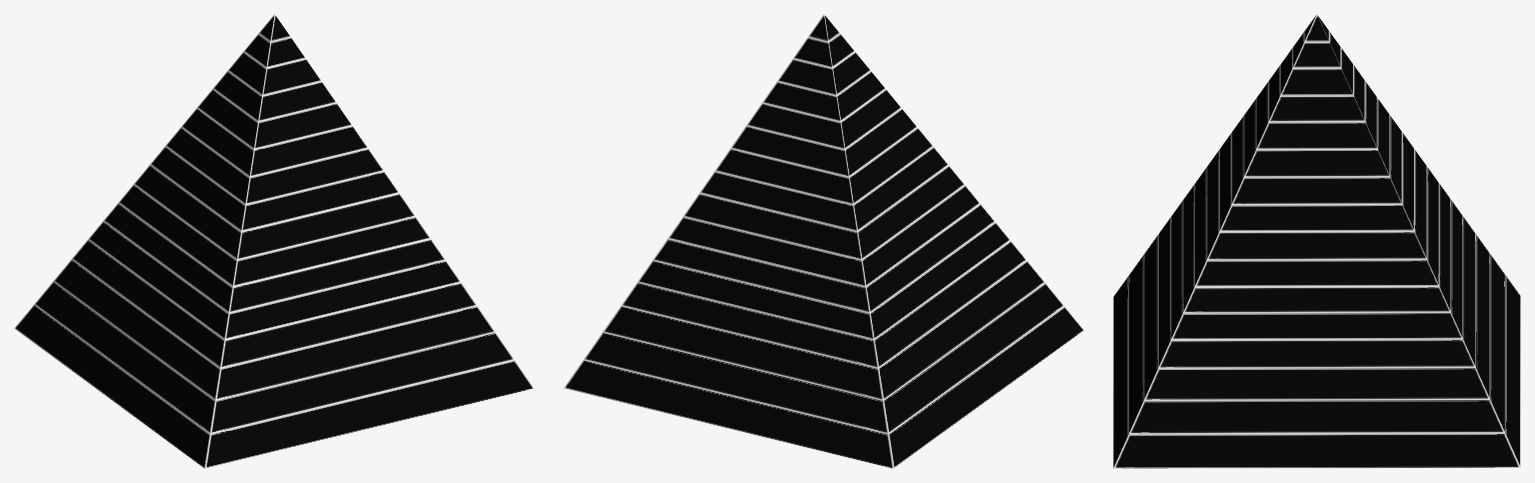
The picture shows the model from 3 angles, left to right: view 1: azimuth 30°, elevation 25°; view 2: azimuth 150°, elevation 25°; view 3: azimuth 270°, elevation 25°; orthographic projection. The views are drawn at different scales.
Parts seen in each view (by area): view 1: PyramidOfPower3D_0.001, PyramidOfPower3D_0.002, PyramidOfPower3D_0.003, PyramidOfPower3D_0.004, PyramidOfPower3D_0.005, PyramidOfPower3D_0.006, PyramidOfPower3D_0.007, PyramidOfPower3D_0.008, PyramidOfPower3D_0.009, PyramidOfPower3D_0.010, PyramidOfPower3D_0.011, PyramidOfPower3D_0.012 (+3 smaller); view 2: PyramidOfPower3D_0.001, PyramidOfPower3D_0.002, PyramidOfPower3D_0.003, PyramidOfPower3D_0.004, PyramidOfPower3D_0.005, PyramidOfPower3D_0.006, PyramidOfPower3D_0.007, PyramidOfPower3D_0.008, PyramidOfPower3D_0.009, PyramidOfPower3D_0.010, PyramidOfPower3D_0.011, PyramidOfPower3D_0.012 (+3 smaller); view 3: PyramidOfPower3D_0.001, PyramidOfPower3D_0.002, PyramidOfPower3D_0.003, PyramidOfPower3D_0.004, PyramidOfPower3D_0.005, PyramidOfPower3D_0.006, PyramidOfPower3D_0.007, PyramidOfPower3D_0.008, PyramidOfPower3D_0.009, PyramidOfPower3D_0.010, PyramidOfPower3D_0.011, PyramidOfPower3D_0.012 (+4 smaller).
Part boxes in pixels (left/top/right/bottom): PyramidOfPower3D_0.001: left=14, top=305, right=534, bottom=468; PyramidOfPower3D_0.002: left=34, top=282, right=514, bottom=433; PyramidOfPower3D_0.003: left=53, top=259, right=495, bottom=399; PyramidOfPower3D_0.004: left=71, top=240, right=476, bottom=367; PyramidOfPower3D_0.005: left=88, top=221, right=460, bottom=339; PyramidOfPower3D_0.006: left=103, top=203, right=445, bottom=312; PyramidOfPower3D_0.007: left=118, top=184, right=430, bottom=286; PyramidOfPower3D_0.008: left=133, top=165, right=414, bottom=259; PyramidOfPower3D_0.009: left=150, top=146, right=398, bottom=231; PyramidOfPower3D_0.010: left=165, top=127, right=383, bottom=204; PyramidOfPower3D_0.011: left=181, top=108, right=367, bottom=176; PyramidOfPower3D_0.012: left=197, top=89, right=351, bottom=149; PyramidOfPower3D_0.001: left=564, top=306, right=1084, bottom=468; PyramidOfPower3D_0.002: left=583, top=282, right=1063, bottom=434; PyramidOfPower3D_0.003: left=602, top=260, right=1044, bottom=401; PyramidOfPower3D_0.004: left=620, top=240, right=1026, bottom=369; PyramidOfPower3D_0.005: left=637, top=222, right=1010, bottom=340; PyramidOfPower3D_0.006: left=652, top=204, right=994, bottom=313; PyramidOfPower3D_0.007: left=667, top=185, right=979, bottom=287; PyramidOfPower3D_0.008: left=683, top=165, right=964, bottom=260; PyramidOfPower3D_0.009: left=699, top=147, right=948, bottom=232; PyramidOfPower3D_0.010: left=714, top=127, right=932, bottom=205; PyramidOfPower3D_0.011: left=730, top=108, right=917, bottom=177; PyramidOfPower3D_0.012: left=746, top=89, right=901, bottom=149; PyramidOfPower3D_0.001: left=1113, top=275, right=1520, bottom=468; PyramidOfPower3D_0.002: left=1129, top=254, right=1505, bottom=433; PyramidOfPower3D_0.003: left=1144, top=234, right=1490, bottom=400; PyramidOfPower3D_0.004: left=1158, top=217, right=1476, bottom=368; PyramidOfPower3D_0.005: left=1171, top=200, right=1463, bottom=339; PyramidOfPower3D_0.006: left=1183, top=183, right=1451, bottom=313; PyramidOfPower3D_0.007: left=1194, top=167, right=1439, bottom=286; PyramidOfPower3D_0.008: left=1206, top=149, right=1427, bottom=259; PyramidOfPower3D_0.009: left=1219, top=133, right=1414, bottom=231; PyramidOfPower3D_0.010: left=1231, top=115, right=1402, bottom=204; PyramidOfPower3D_0.011: left=1244, top=99, right=1389, bottom=176; PyramidOfPower3D_0.012: left=1256, top=81, right=1377, bottom=149.
Size of the model in its own units: 165 by 165 by 165.
Materials: 5 (5 with a texture image).
